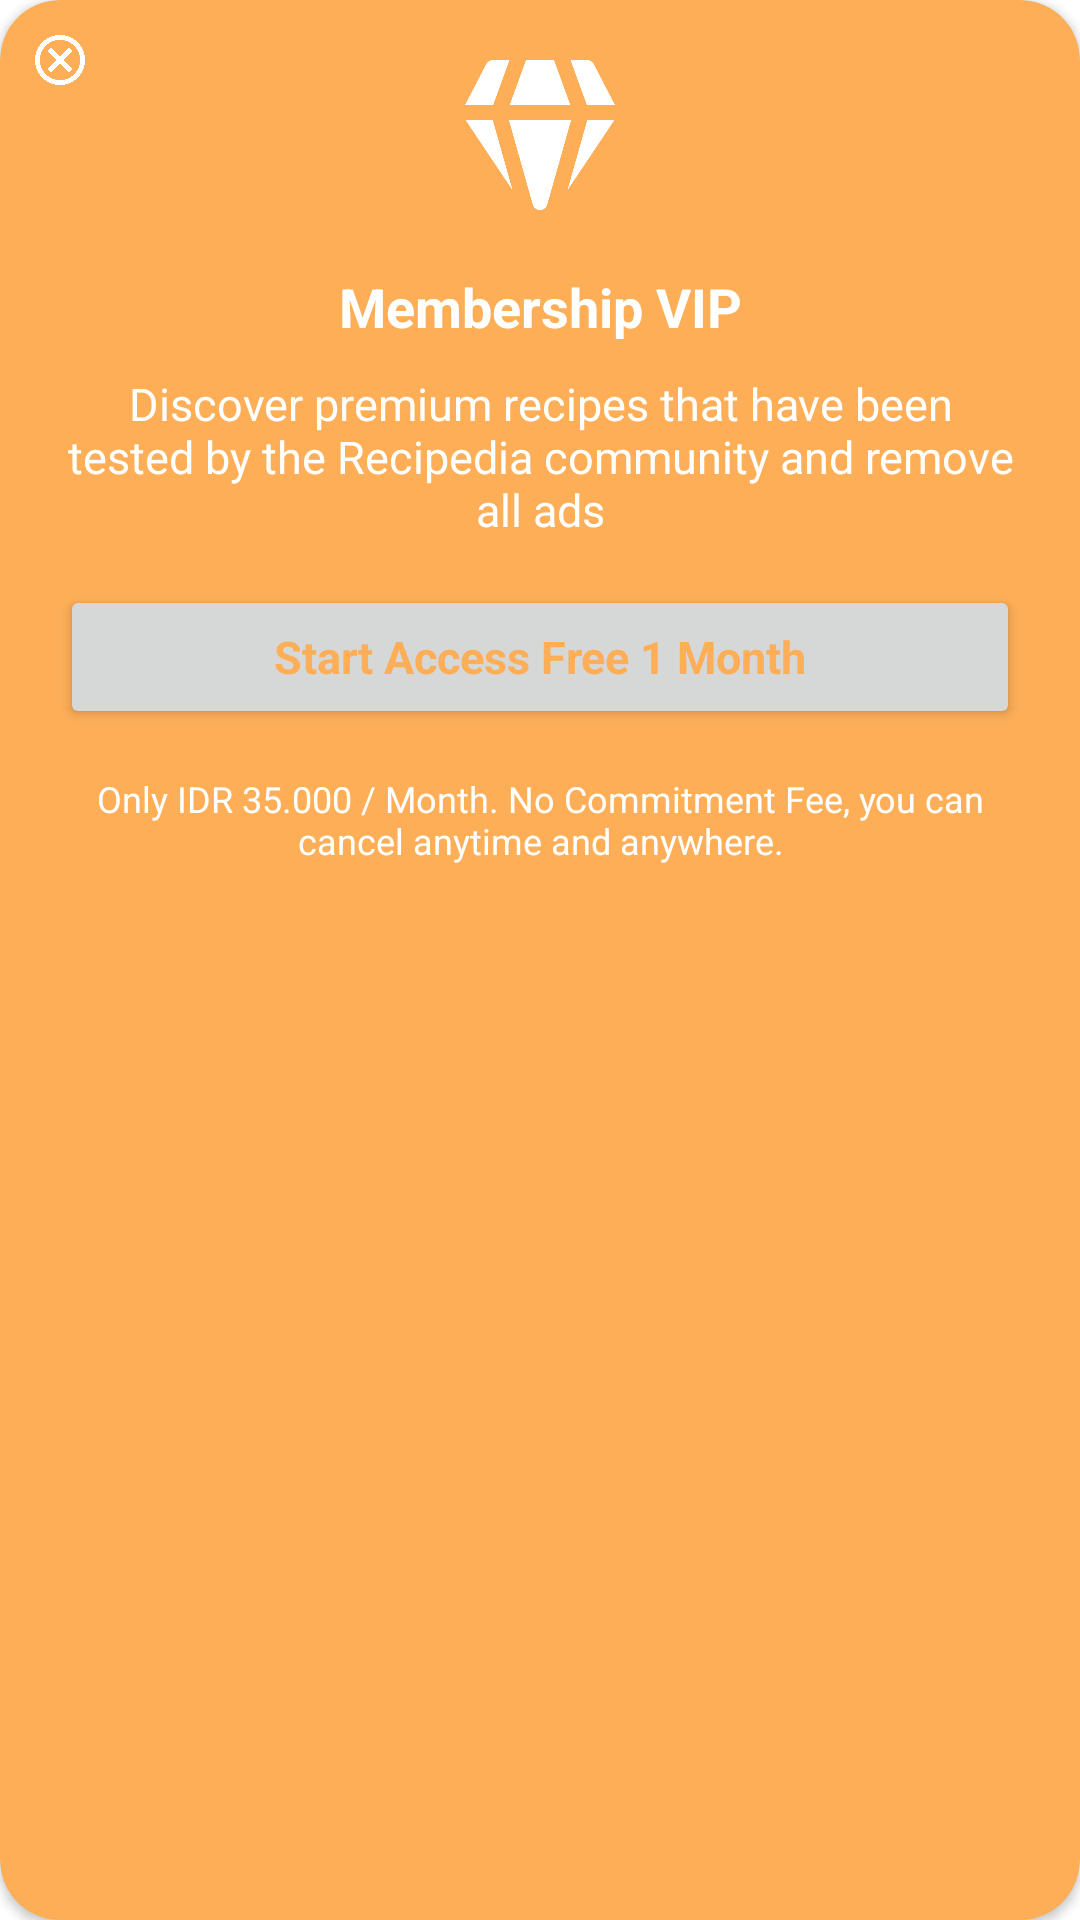

Locate icon controls on the screen. Image size 1080w x 1920h, boxes as (x1, y1, x2, y2).
cancel: (35, 35, 85, 85)
diamond: (465, 60, 615, 210)
